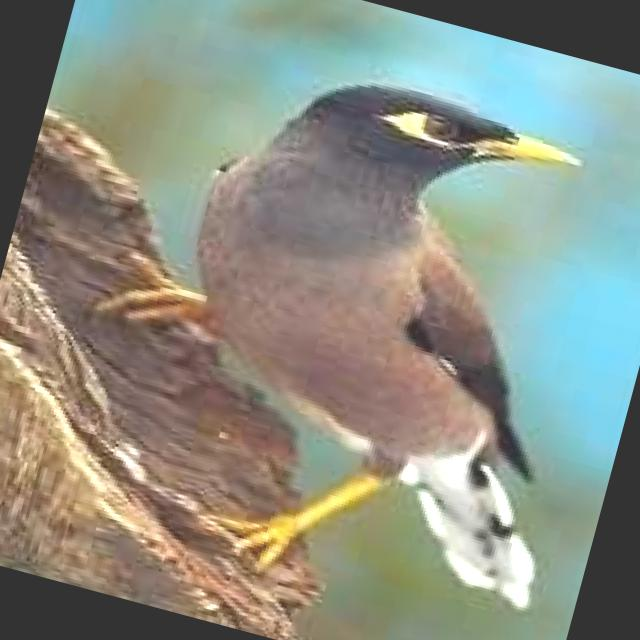bird: (26, 12, 640, 640)
